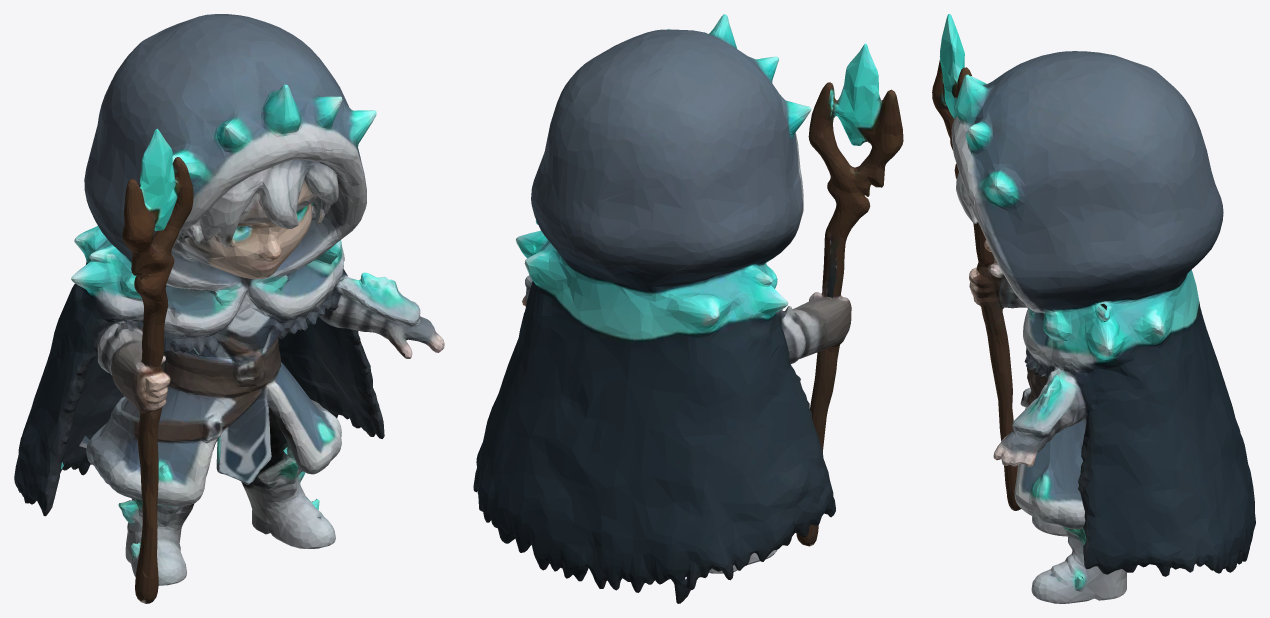
File: frostbite.glb
The picture shows the model from 3 angles, left to right: view 1: azimuth 30°, elevation 25°; view 2: azimuth 150°, elevation 25°; view 3: azimuth 270°, elevation 25°; orthographic projection. The views are drawn at different scales.
Visible parts, largest first — view 1: tmp1teh6wdy.ply; view 2: tmp1teh6wdy.ply; view 3: tmp1teh6wdy.ply.
Part boxes in pixels (left/top/right/bottom): tmp1teh6wdy.ply: left=14, top=14, right=444, bottom=603; tmp1teh6wdy.ply: left=473, top=14, right=903, bottom=603; tmp1teh6wdy.ply: left=932, top=14, right=1255, bottom=603.
Size of the model in its own units: 1.44 by 2 by 1.17.
1 material, 1 textured.
